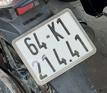1: (39, 52, 60, 75), (54, 14, 74, 38), (72, 30, 91, 54)
2: (29, 57, 51, 82)
4: (50, 44, 70, 69), (31, 29, 50, 53), (64, 37, 82, 61)
6: (22, 34, 41, 58)
K: (45, 19, 66, 44)
